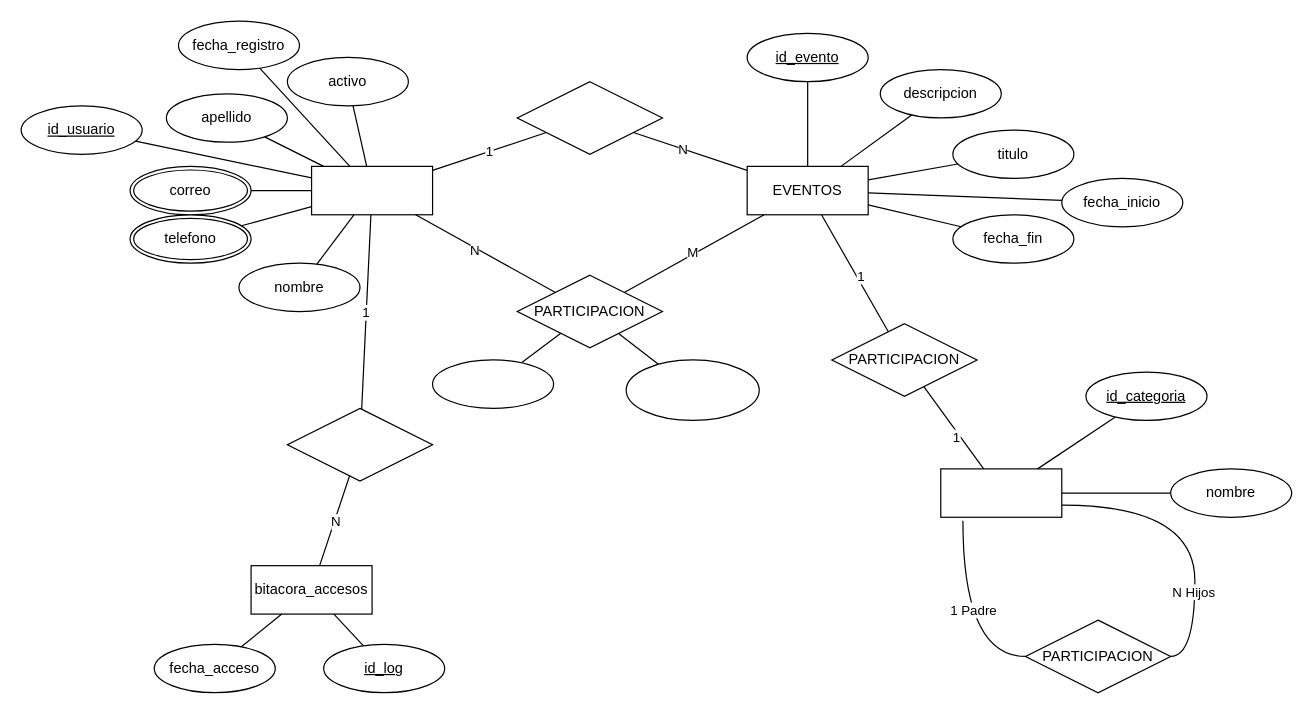
Image size: 1313x714. Some labels were removed from this diagram. Each missing label, with the box of its shape:
CATEGORIA: (940, 468, 1062, 517)
estado_confirmacion: (625, 359, 759, 420)
PROPIETARIO: (516, 80, 662, 154)
REGISTRA: (286, 407, 433, 481)
rol: (431, 359, 554, 408)
USUARIOS: (310, 165, 433, 215)
